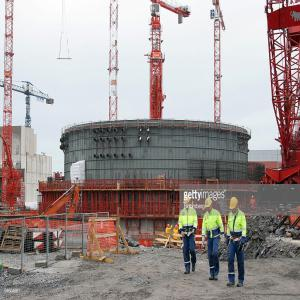white: (253, 196, 255, 200)
yellow: (230, 197, 239, 215), (205, 198, 214, 214), (184, 195, 192, 210)
